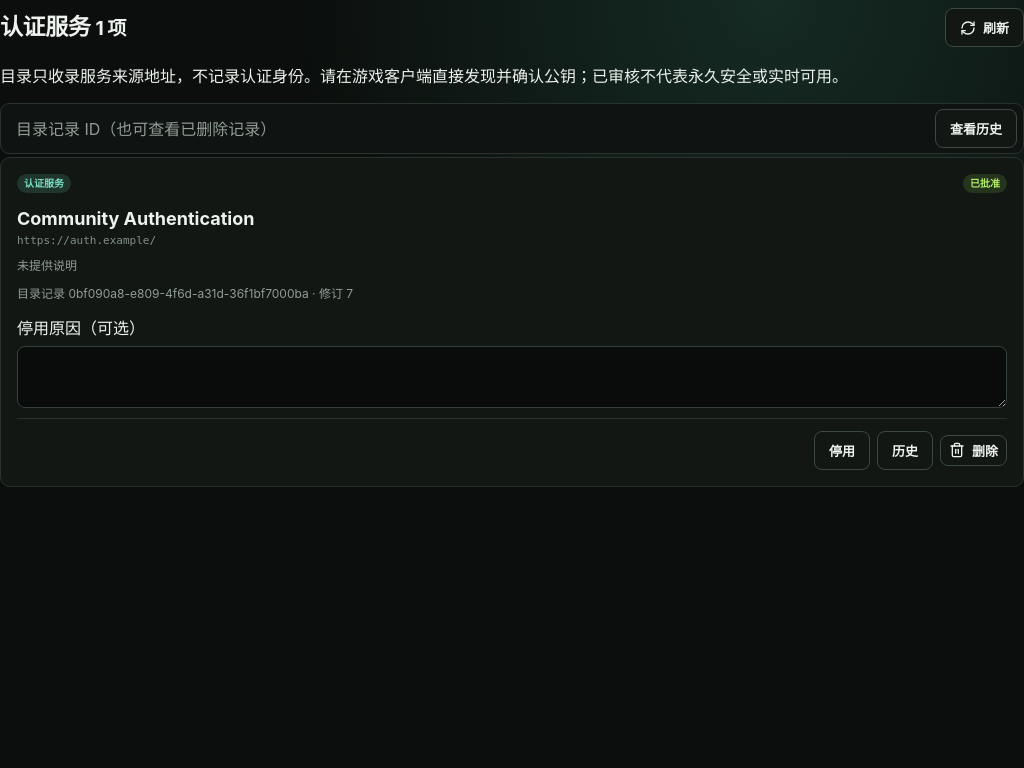
Test case: Authentication service directory › retains access to audited source after administrator deletion
Click the button "删除" at (974, 450), box [940, 435, 1007, 466]
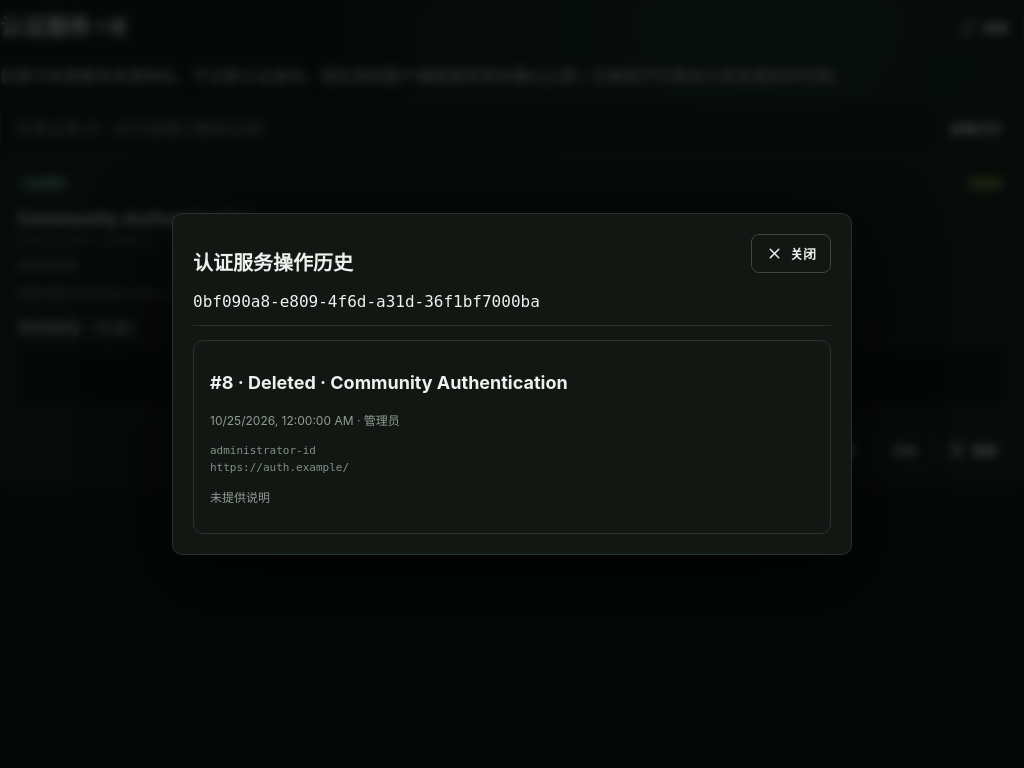
expect the dialog shows "Deleted": met, box [210, 372, 568, 393]
expect the dialog shows "https://auth.example/": met, box [210, 461, 349, 474]
